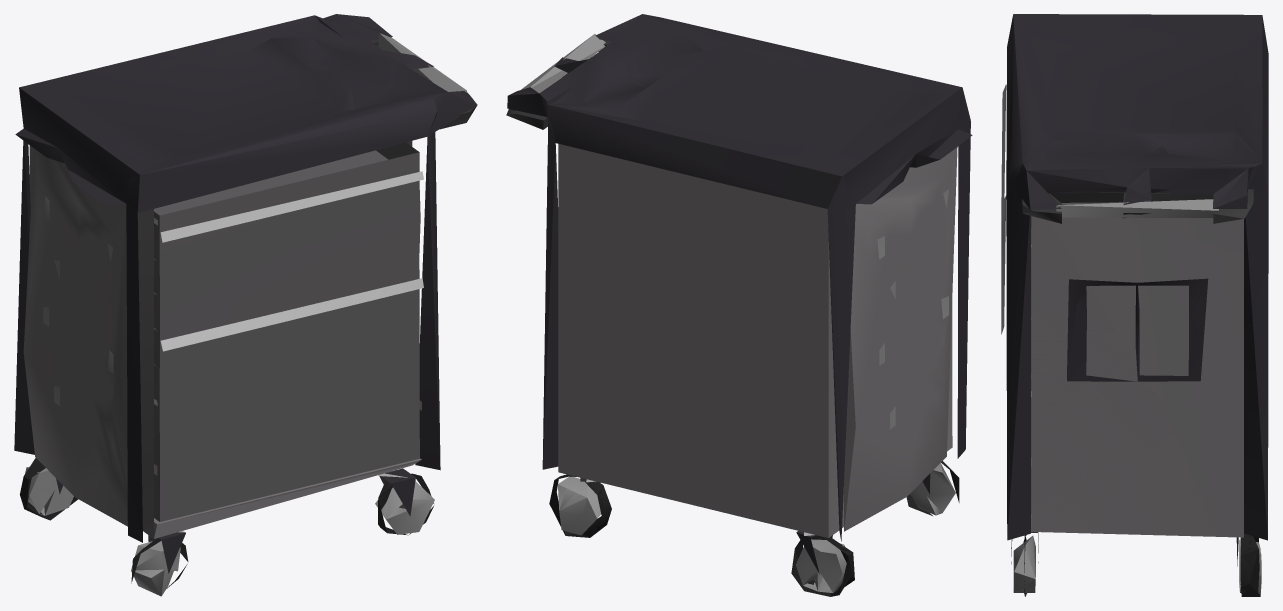
Rendered from simready-tool-cabinet-rolling.lite.42a7e943.glb.
3 renders of one model, left to right at view 1: azimuth 30°, elevation 25°; view 2: azimuth 150°, elevation 25°; view 3: azimuth 270°, elevation 25°, orthographic. The views are drawn at different scales.
Parts seen in each view (by area): view 1: model; view 2: model; view 3: model.
Boxes of the visible parts, x1=… form: model: x1=14, y1=14, x2=477, y2=596; model: x1=506, y1=14, x2=972, y2=596; model: x1=1001, y1=14, x2=1268, y2=596.
Bounding box in the file's own units: 0.9393 × 1.04 × 0.5635.
9 materials, 4 textured.
